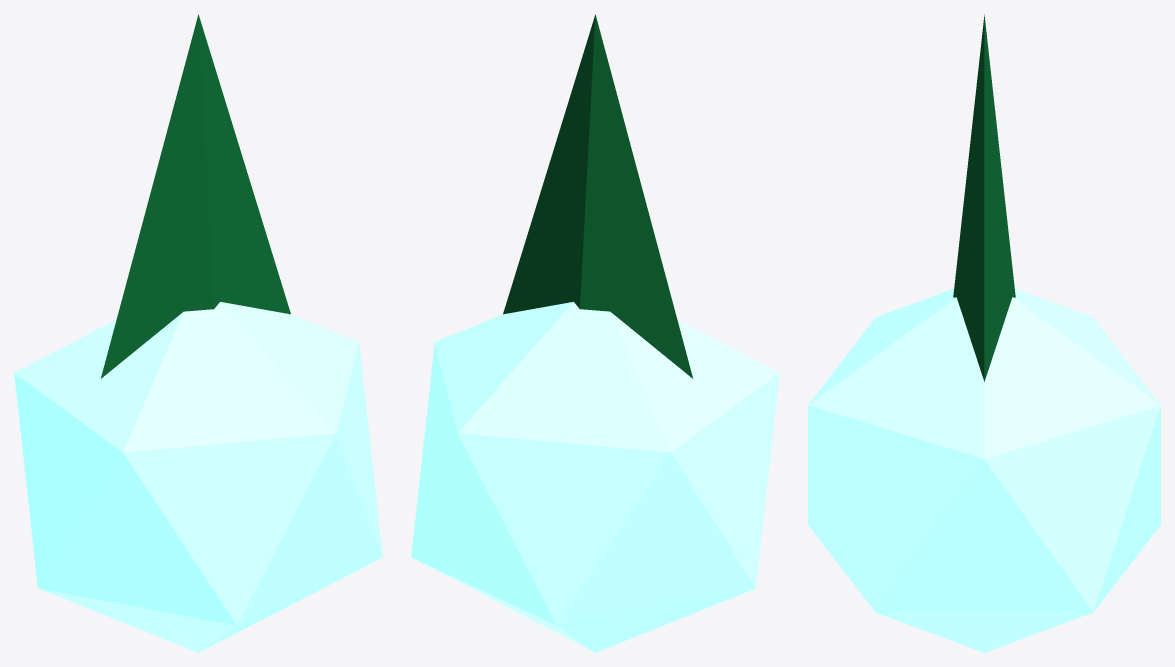
Rendered from Item_OR_Herb_05.glb.
The picture shows the model from 3 angles, left to right: view 1: azimuth 30°, elevation 25°; view 2: azimuth 150°, elevation 25°; view 3: azimuth 270°, elevation 25°; orthographic projection.
Visible parts, largest first — view 1: Item_OR_Herb_05; view 2: Item_OR_Herb_05; view 3: Item_OR_Herb_05.
Boxes of the visible parts, box(x1,y1,x2,y2) form: Item_OR_Herb_05: box(14, 14, 382, 652); Item_OR_Herb_05: box(411, 14, 779, 652); Item_OR_Herb_05: box(808, 14, 1160, 652).
Bounding box in the file's own units: 0.0894 × 0.17 × 0.0851.
